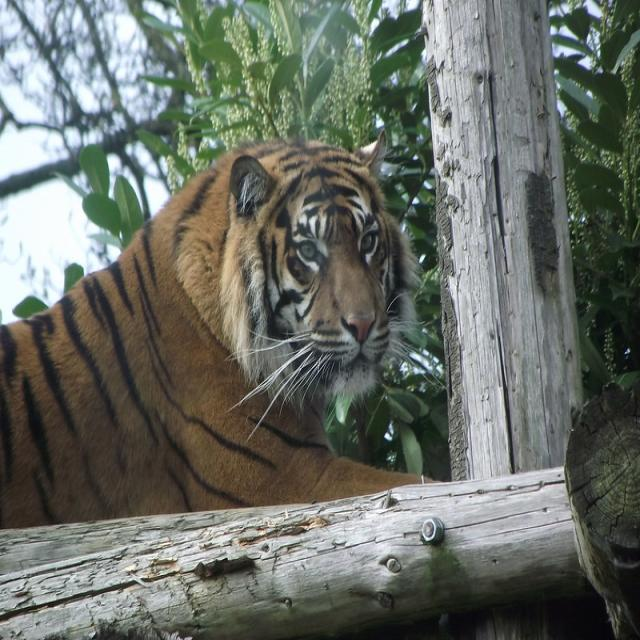Tiger: (0, 125, 446, 525)
